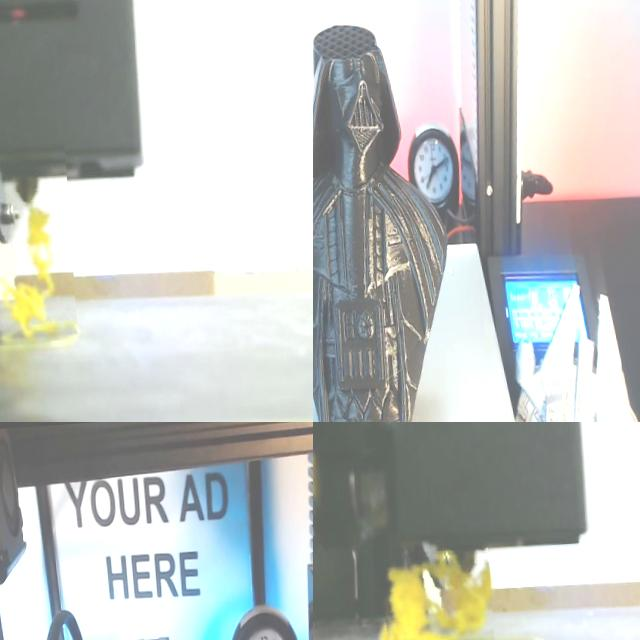spaghetti: (0, 209, 78, 344), (385, 550, 491, 640)
